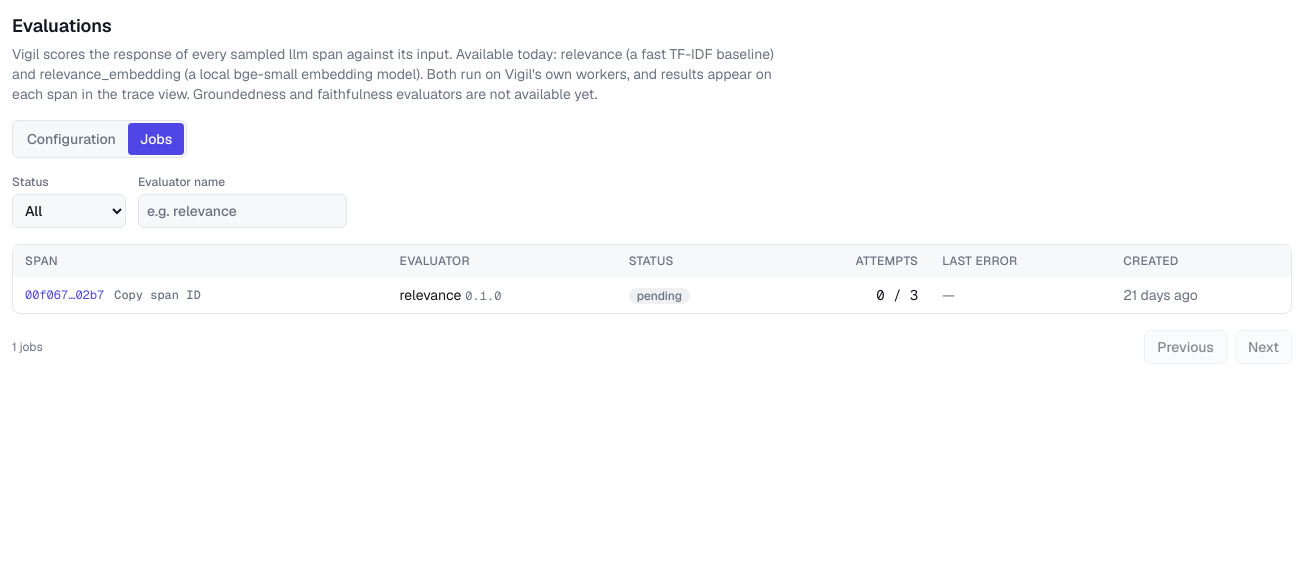
Test: EvaluationsView tab switching › keeps the Jobs panel's filtered data after switching away and back to it -- never resetting to server-rendered initial data
Type "toxicity" into the field with id "job-evaluator-filter" at (242, 211), box x1=138 y1=194 x2=347 y2=228
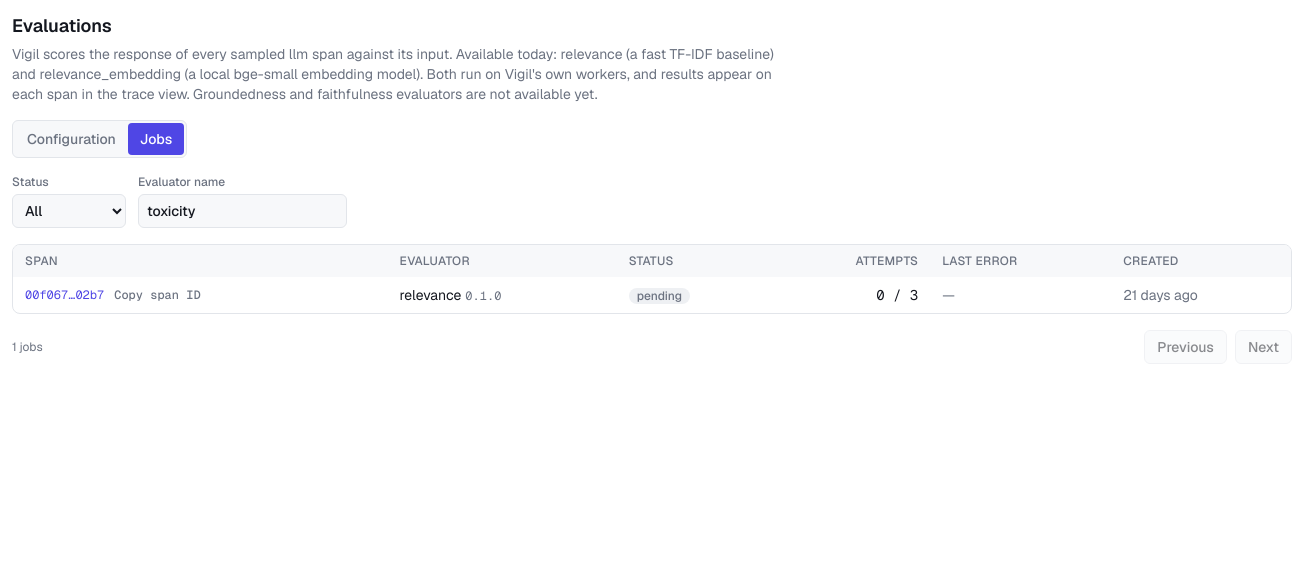
Leave the field with id "job-evaluator-filter", box x1=138 y1=194 x2=347 y2=228
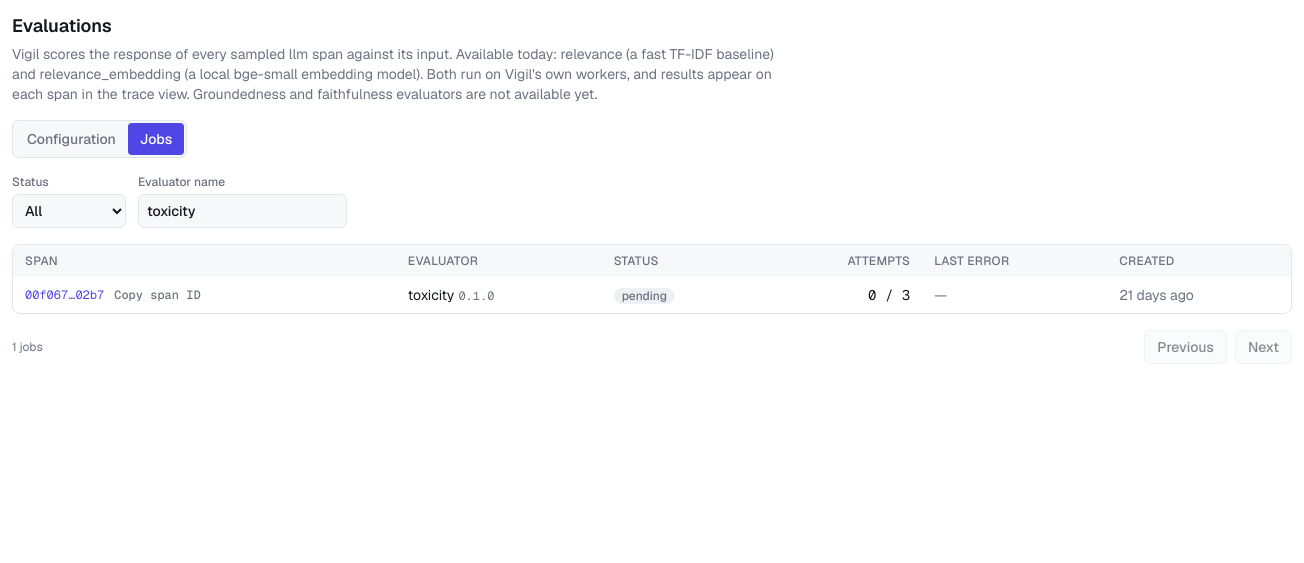
Expected: the text "relevance" is not shown
Expected: the text "toxicity" is shown, x1=408 y1=286 x2=454 y2=304
Note: Switch to Configuration, then back to Jobs.
Click the tab "Configuration" at (71, 139), box x1=15 y1=123 x2=128 y2=155
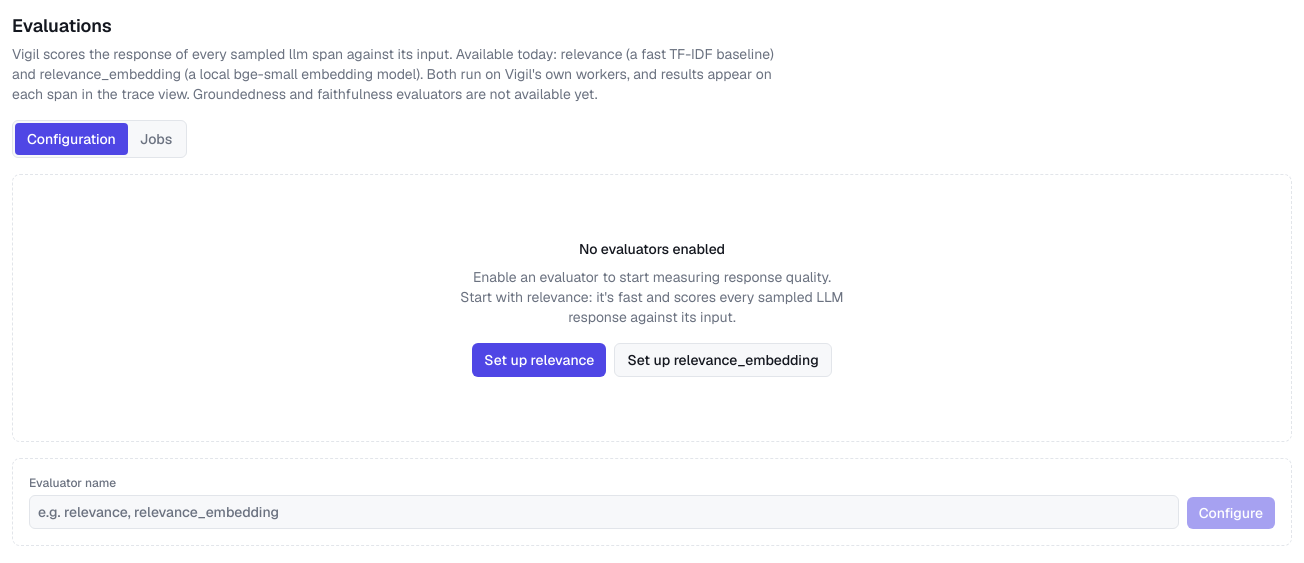
Click the tab "Jobs" at (156, 139), box x1=128 y1=123 x2=184 y2=155
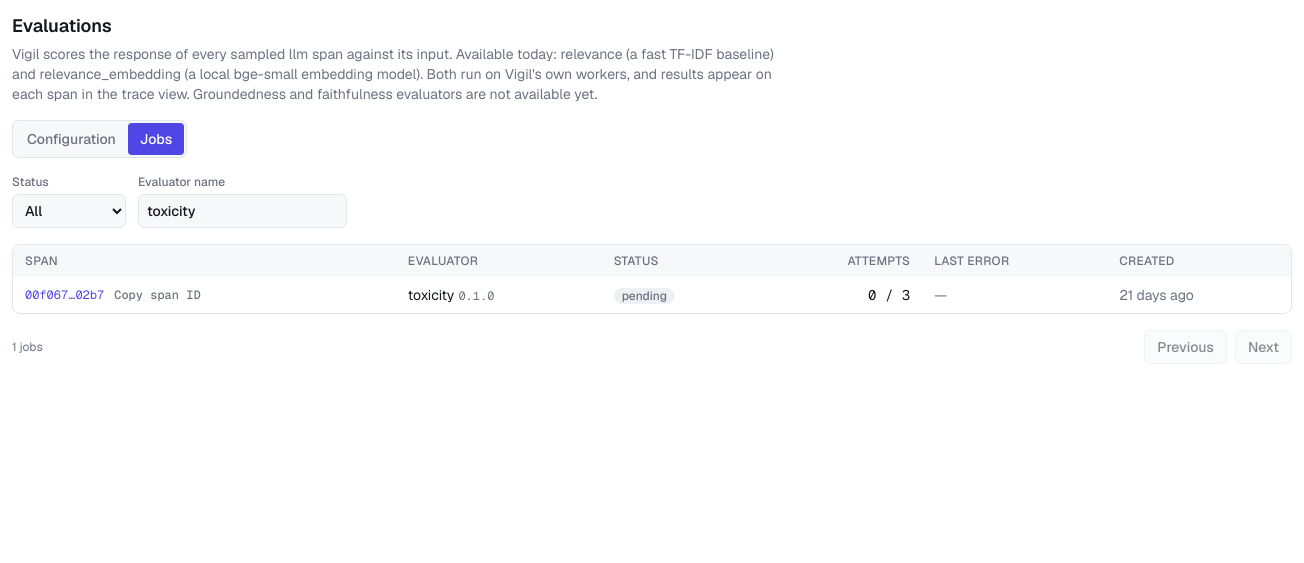
Expected: the text "relevance" is not shown
Expected: the text "toxicity" is shown, x1=408 y1=286 x2=454 y2=304
